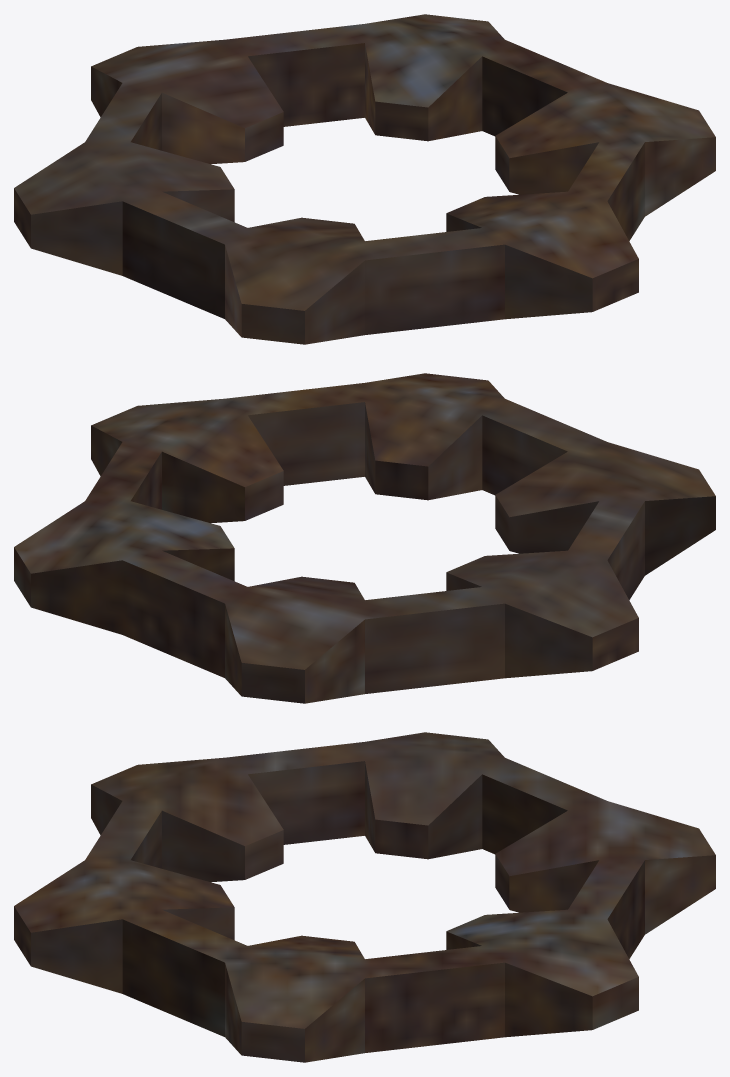
File: WeirdGear.glb
3 renders of one model, top to bottom at view 1: azimuth 30°, elevation 25°; view 2: azimuth 150°, elevation 25°; view 3: azimuth 270°, elevation 25°, orthographic.
Visible parts, largest first — view 1: GearBase; view 2: GearBase; view 3: GearBase.
Part boxes in pixels (box(x1,y1,x2,y2)): GearBase: box(14, 14, 715, 344); GearBase: box(14, 373, 715, 703); GearBase: box(14, 732, 715, 1062).
Size of the model in its own units: 2.51 by 0.2945 by 2.51.
1 material, 1 textured.
